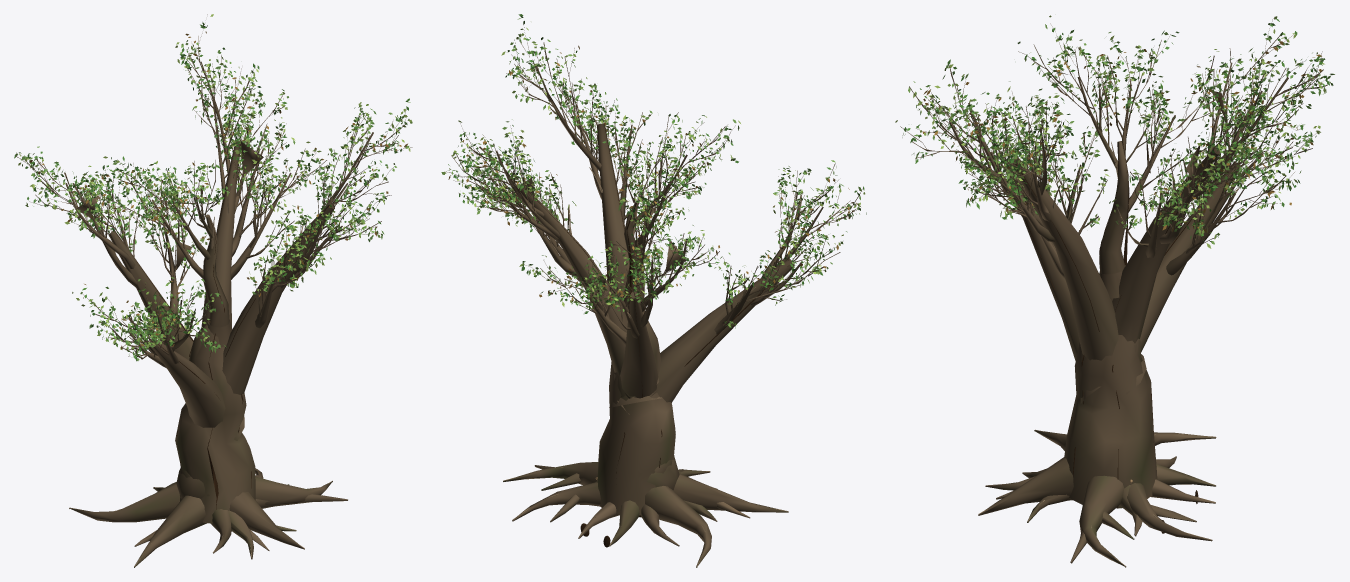
The model's file is ancient_tree_08_lod2.glb.
3 renders of one model, left to right at view 1: azimuth 30°, elevation 25°; view 2: azimuth 150°, elevation 25°; view 3: azimuth 270°, elevation 25°, orthographic. The views are drawn at different scales.
Visible parts, largest first — view 1: AncientTreeWood_LOD2, AncientLeaves_LOD2, FineBranches_LOD2, DirectedBarkGrooves_LOD2; view 2: AncientTreeWood_LOD2, AncientLeaves_LOD2, FineBranches_LOD2, DirectedBarkGrooves_LOD2; view 3: AncientTreeWood_LOD2, AncientLeaves_LOD2, FineBranches_LOD2, DirectedBarkGrooves_LOD2.
Part boxes in pixels (x1,y1,x2,y2): AncientTreeWood_LOD2: (24, 36, 406, 567); AncientLeaves_LOD2: (14, 14, 412, 361); FineBranches_LOD2: (15, 14, 412, 357); DirectedBarkGrooves_LOD2: (114, 147, 334, 509); AncientTreeWood_LOD2: (451, 41, 855, 567); AncientLeaves_LOD2: (441, 14, 866, 328); FineBranches_LOD2: (446, 24, 862, 325); DirectedBarkGrooves_LOD2: (524, 124, 771, 473); AncientTreeWood_LOD2: (912, 32, 1323, 567); AncientLeaves_LOD2: (895, 15, 1334, 248); FineBranches_LOD2: (900, 18, 1328, 248); DirectedBarkGrooves_LOD2: (1005, 141, 1234, 508).
Bounding box in the file's own units: 19.59 × 25.3 × 19.64.
